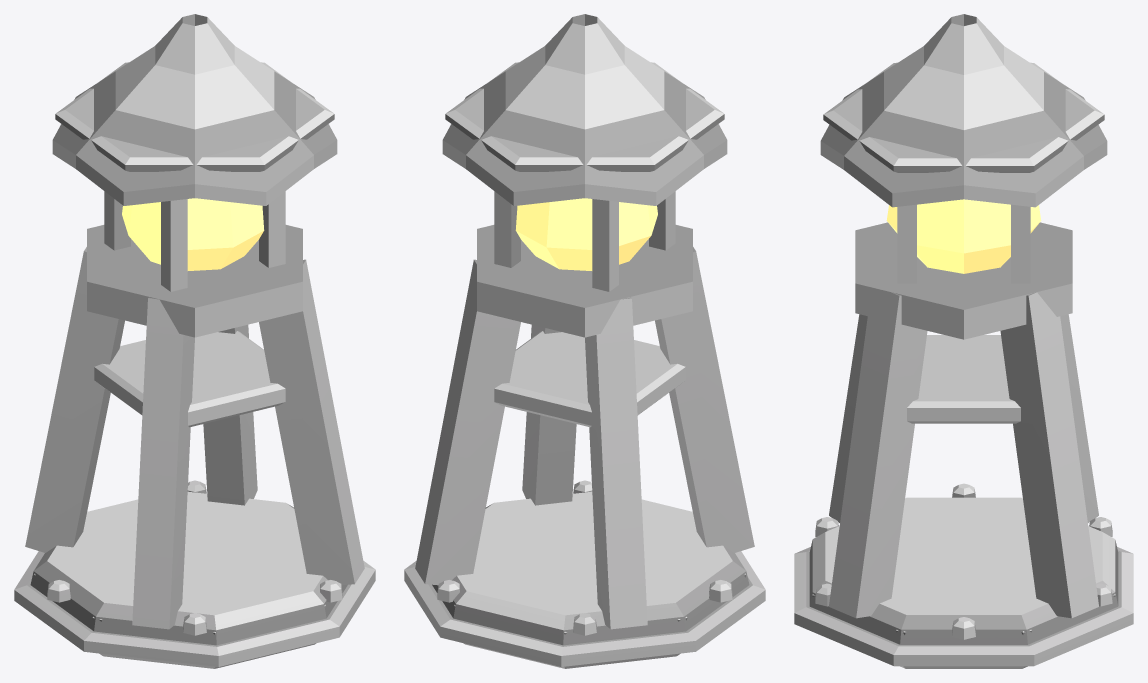
Rendered from beacon.glb.
3 views of the same model, side by side, from view 1: azimuth 30°, elevation 25°; view 2: azimuth 150°, elevation 25°; view 3: azimuth 270°, elevation 25° (orthographic).
Visible parts, largest first — view 1: beacon.001; view 2: beacon.001; view 3: beacon.001.
Boxes of the visible parts, x1,y1,x2,y2 form: beacon.001: (14, 14, 375, 668); beacon.001: (404, 14, 765, 668); beacon.001: (794, 14, 1133, 668).
Bounding box in the file's own units: 1.07 × 2.02 × 1.05.
